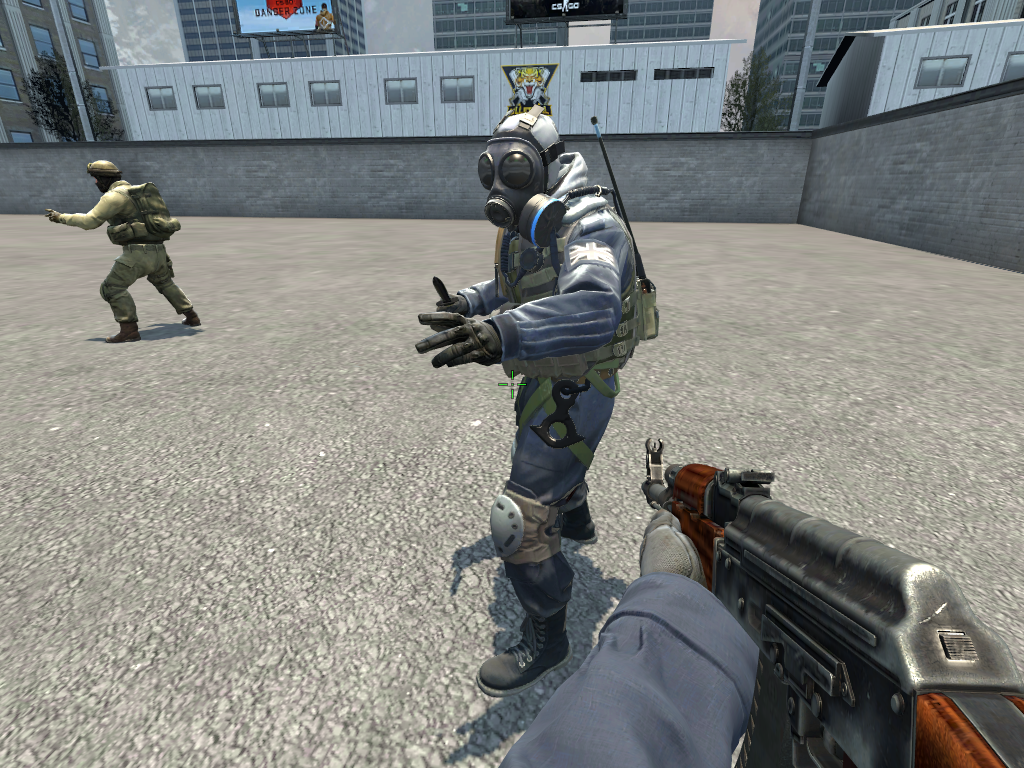ct head: (471, 103, 574, 248), (82, 159, 122, 199)
